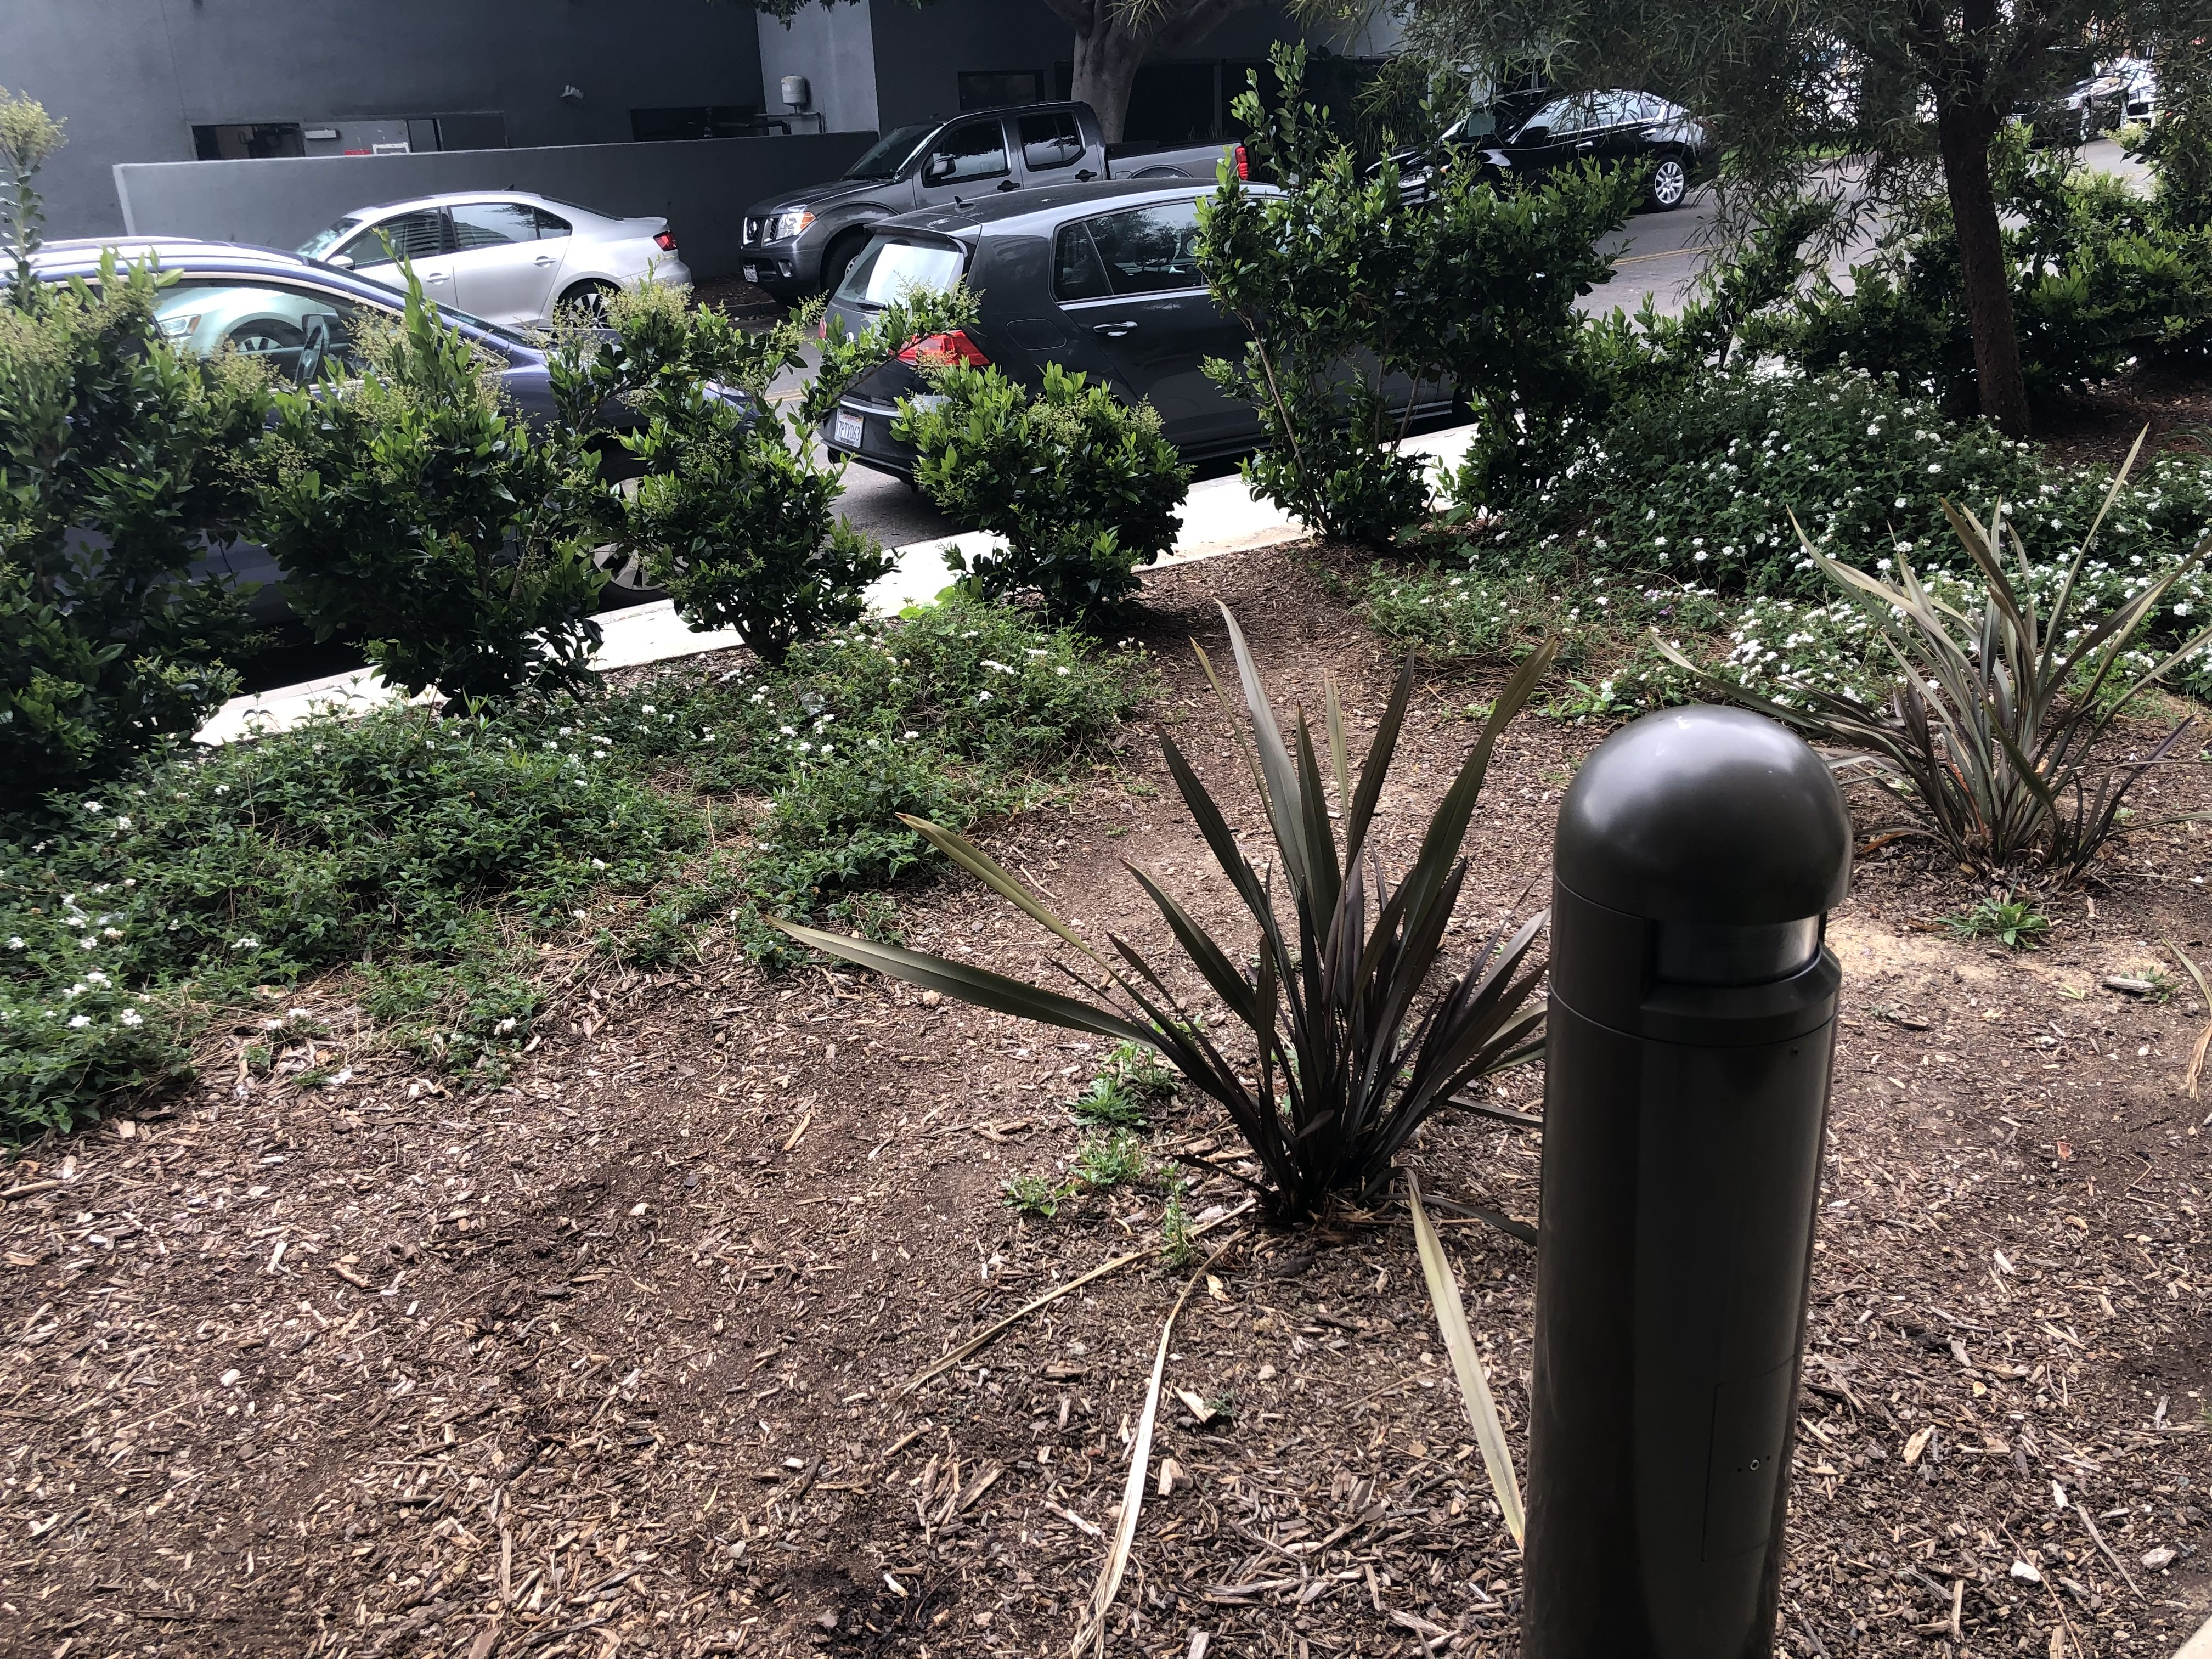Edge: (89, 416, 1618, 756)
Obstacle: (3, 240, 789, 674), (1524, 725, 1839, 1656), (827, 192, 1451, 519)
